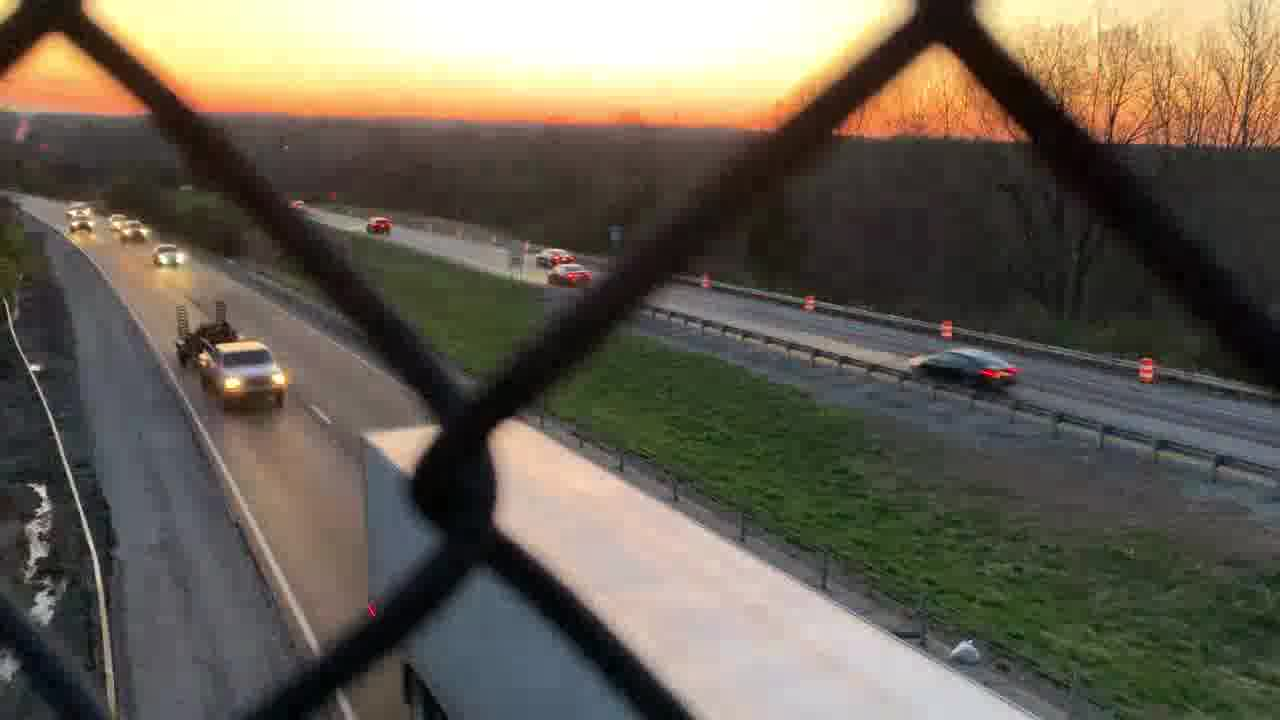largeCar: (365, 213, 392, 233)
lightTruck: (172, 298, 295, 420)
smallCar: (903, 340, 1023, 392), (150, 240, 189, 270), (549, 264, 594, 289), (537, 242, 577, 269)
vehicle: (65, 216, 100, 232), (68, 198, 95, 218), (123, 220, 149, 239), (106, 213, 123, 228)
